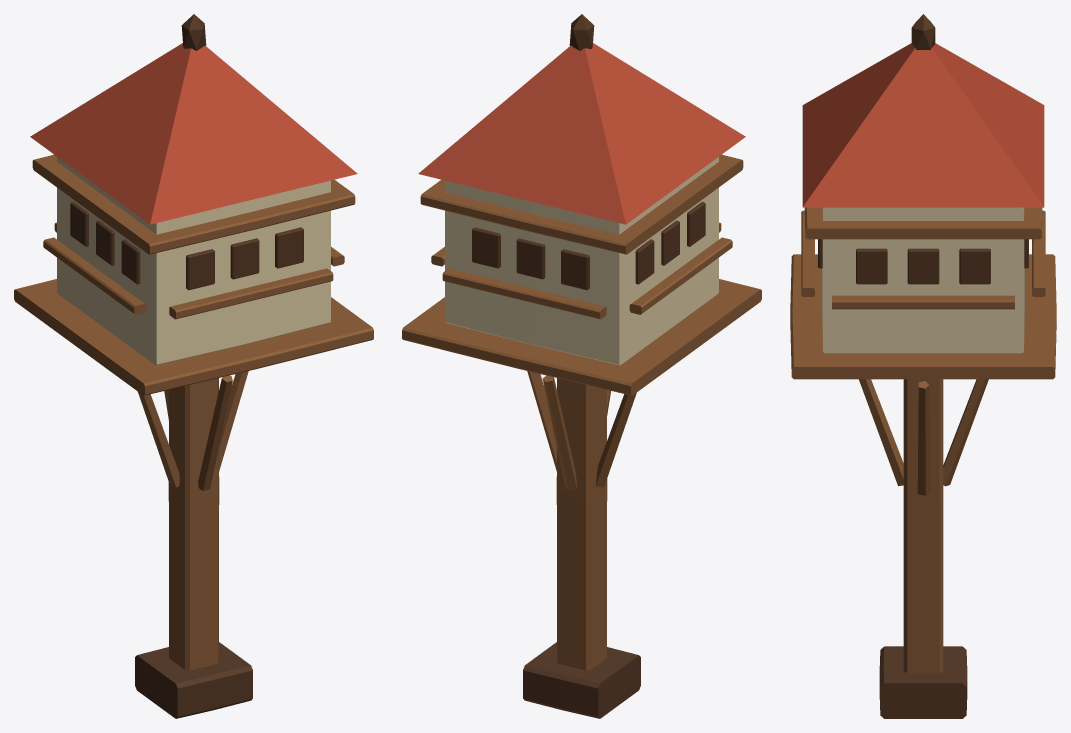
File: building_dovecote_a.glb
3 views of the same model, side by side, from view 1: azimuth 30°, elevation 25°; view 2: azimuth 150°, elevation 25°; view 3: azimuth 270°, elevation 25° (orthographic).
Parts seen in each view (by area): view 1: dovecote_brace_0, dovecote_roof, dovecote_body, dovecote_finial; view 2: dovecote_brace_0, dovecote_roof, dovecote_body, dovecote_finial; view 3: dovecote_brace_0, dovecote_roof, dovecote_body, dovecote_finial.
Boxes of the visible parts, left/top/right/bottom form: dovecote_brace_0: left=14, top=154, right=373, bottom=670; dovecote_roof: left=30, top=43, right=357, bottom=224; dovecote_body: left=57, top=157, right=330, bottom=365; dovecote_finial: left=70, top=14, right=303, bottom=718; dovecote_brace_0: left=402, top=154, right=761, bottom=670; dovecote_roof: left=418, top=43, right=745, bottom=224; dovecote_body: left=445, top=157, right=718, bottom=365; dovecote_finial: left=472, top=14, right=705, bottom=718; dovecote_brace_0: left=790, top=207, right=1056, bottom=672; dovecote_roof: left=802, top=43, right=1044, bottom=207; dovecote_body: left=822, top=207, right=1024, bottom=353; dovecote_finial: left=818, top=14, right=1028, bottom=718.
Bounding box in the file's own units: 1.34 × 3.81 × 1.34.
